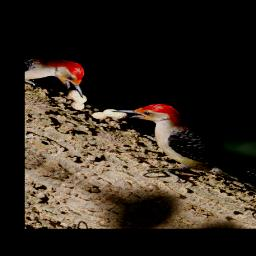Woodpecker: (68, 91, 256, 207)
